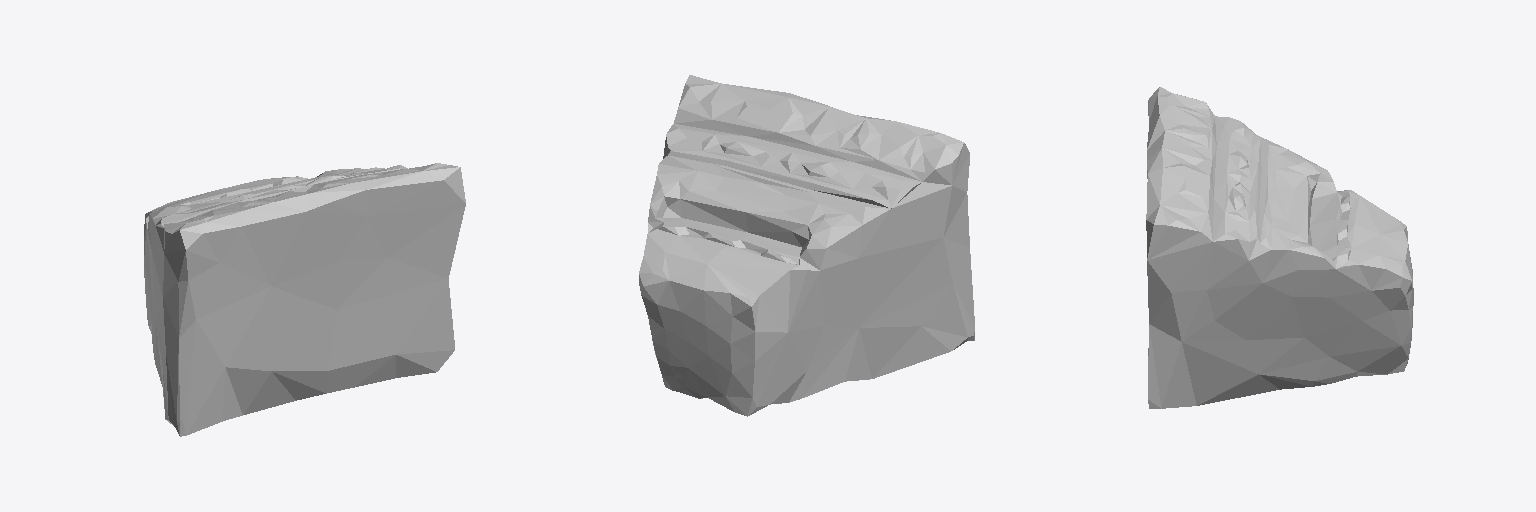
Rendered from rooftoppercorner.obj.
3 renders of one model, left to right at view 1: azimuth 30°, elevation 25°; view 2: azimuth 150°, elevation 25°; view 3: azimuth 270°, elevation 25°, orthographic.
Visible parts, largest first — view 1: rooftoppercorner; view 2: rooftoppercorner; view 3: rooftoppercorner.
Boxes of the visible parts, <box> form: rooftoppercorner: <box>144,163,465,436</box>; rooftoppercorner: <box>639,75,974,416</box>; rooftoppercorner: <box>1146,87,1413,408</box>.
Bounding box in the file's own units: 2.52 × 1.8 × 2.03.